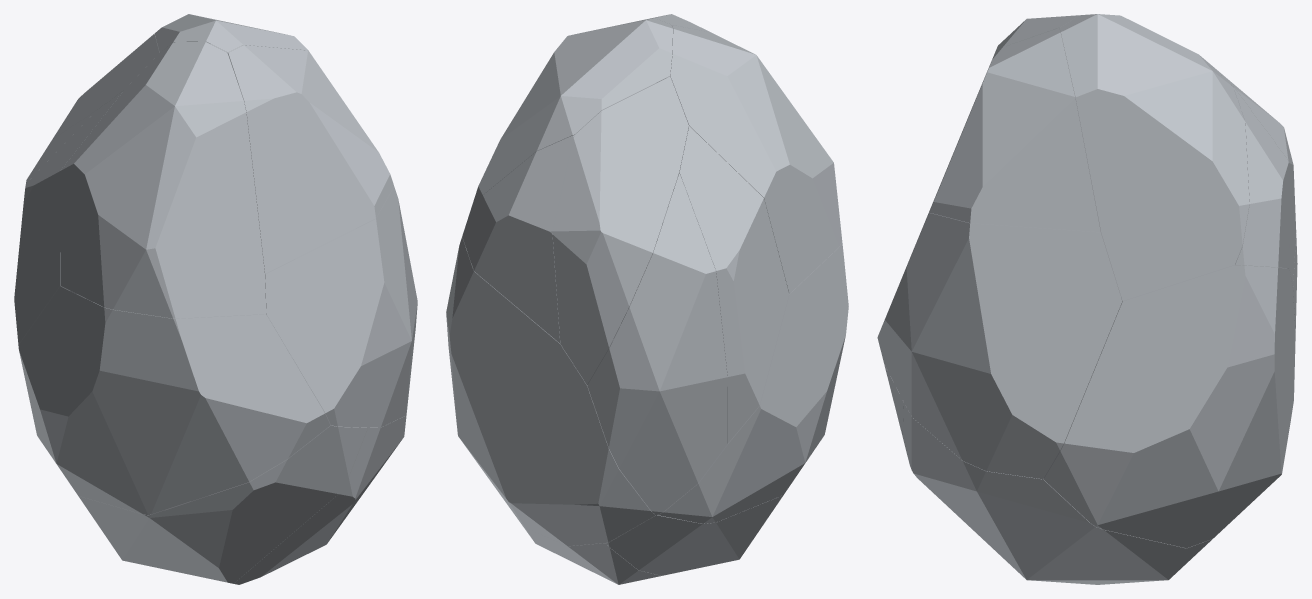
The model's file is BrokeSilver.fbx.
3 views of the same model, side by side, from view 1: azimuth 30°, elevation 25°; view 2: azimuth 150°, elevation 25°; view 3: azimuth 270°, elevation 25° (orthographic). The views are drawn at different scales.
Parts seen in each view (by area): view 1: Icosphere_cell.011, Icosphere_cell.009, Icosphere_cell.005, Icosphere_cell, Icosphere_cell.010, Icosphere_cell.002, Icosphere_cell.006, Icosphere_cell.007, Icosphere_cell.003, Icosphere_cell.004; view 2: Icosphere_cell.001, Icosphere_cell.004, Icosphere_cell.003, Icosphere_cell.009, Icosphere_cell.011, Icosphere_cell.002, Icosphere_cell.007, Icosphere_cell.008, Icosphere_cell.010, Icosphere_cell.006; view 3: Icosphere_cell.001, Icosphere_cell.005, Icosphere_cell.007, Icosphere_cell, Icosphere_cell.006, Icosphere_cell.008, Icosphere_cell.003, Icosphere_cell.009.
Part boxes in pixels (box(x1,y1,x2,y2)): Icosphere_cell.011: box(18, 286, 330, 514); Icosphere_cell.009: box(60, 41, 266, 318); Icosphere_cell.005: box(265, 186, 417, 427); Icosphere_cell: box(228, 45, 393, 273); Icosphere_cell.010: box(75, 425, 367, 583); Icosphere_cell.002: box(14, 91, 122, 344); Icosphere_cell.006: box(234, 409, 407, 584); Icosphere_cell.007: box(154, 14, 308, 53); Icosphere_cell.003: box(53, 34, 159, 138); Icosphere_cell.004: box(26, 110, 96, 183); Icosphere_cell.001: box(446, 237, 655, 546); Icosphere_cell.004: box(587, 173, 727, 515); Icosphere_cell.003: box(552, 76, 688, 384); Icosphere_cell.009: box(670, 25, 842, 293); Icosphere_cell.011: box(658, 241, 848, 523); Icosphere_cell.002: box(679, 126, 789, 443); Icosphere_cell.007: box(467, 18, 672, 219); Icosphere_cell.008: box(462, 135, 574, 343); Icosphere_cell.010: box(606, 434, 824, 575); Icosphere_cell.006: box(509, 507, 661, 584); Icosphere_cell.001: box(1043, 265, 1295, 548); Icosphere_cell.005: box(877, 201, 1122, 479); Icosphere_cell.007: box(1059, 14, 1249, 300); Icosphere_cell: box(929, 28, 1100, 232); Icosphere_cell.006: box(902, 402, 1212, 584); Icosphere_cell.008: box(1233, 87, 1289, 268); Icosphere_cell.003: box(1208, 62, 1296, 287); Icosphere_cell.009: box(930, 15, 1079, 208).
Bounding box in the file's own units: 2.9 × 4.74 × 3.16.
